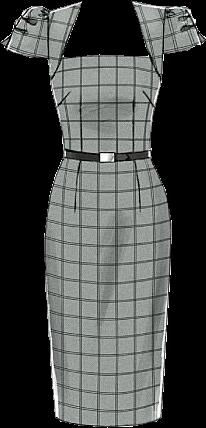Bodice: (46, 0, 165, 160)
Hemline: (55, 415, 160, 427)
Neckline: (49, 1, 163, 83)
Skirt: (44, 155, 170, 426)
Sleeve: (1, 6, 50, 57), (164, 6, 205, 54)
Sleeveline: (41, 10, 52, 57), (160, 7, 170, 55)
Waistline: (63, 152, 149, 164)
